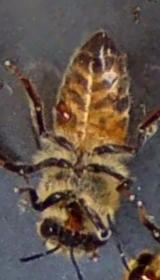varroa_mite: (48, 90, 78, 128)
